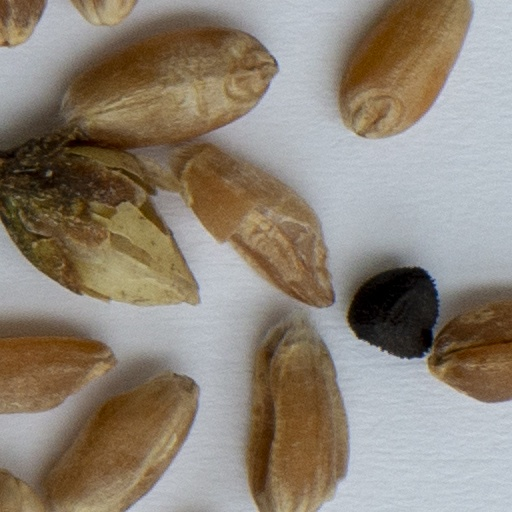Agrostemma-poly: (347, 263, 441, 362)
Peel-poly: (0, 132, 197, 303)
